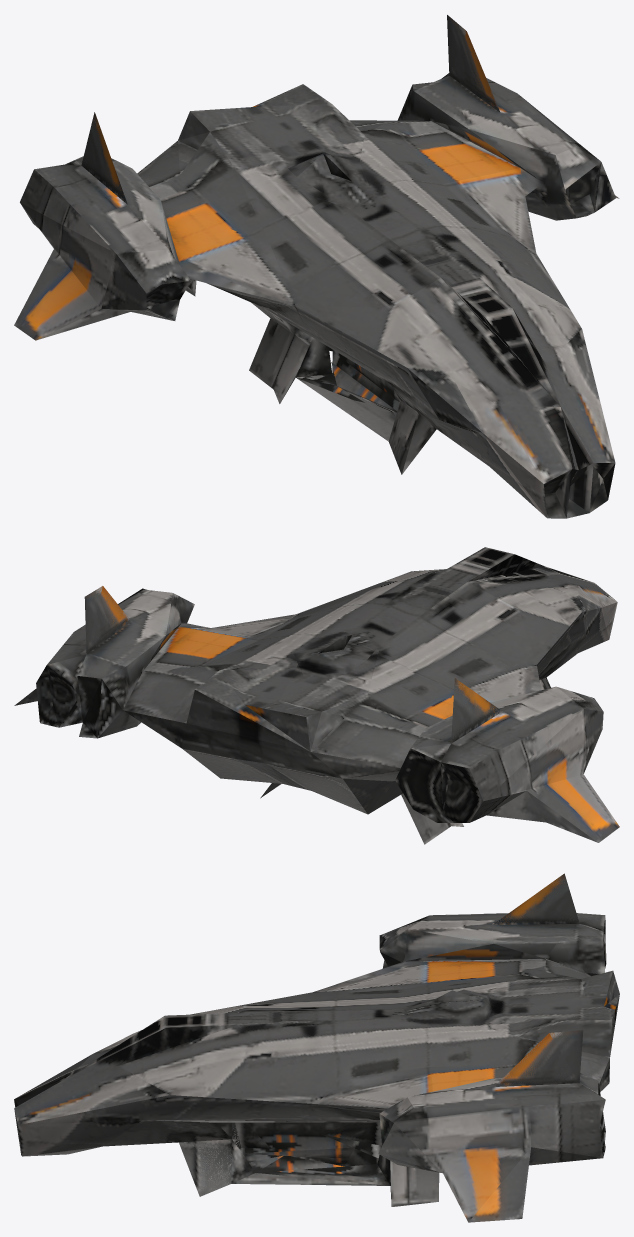
Rendered from hard-500.glb.
3 views of the same model, one above another, from view 1: azimuth 30°, elevation 25°; view 2: azimuth 150°, elevation 25°; view 3: azimuth 270°, elevation 25° (orthographic). The views are drawn at different scales.
Visible parts, largest first — view 1: Low; view 2: Low; view 3: Low.
Boxes of the visible parts, x1,y1,x2,y2 form: Low: (14,15,619,518); Low: (14,547,619,844); Low: (14,873,619,1222).
Bounding box in the file's own units: 0.9495 × 0.3793 × 0.9591.
1 material, 1 textured.
